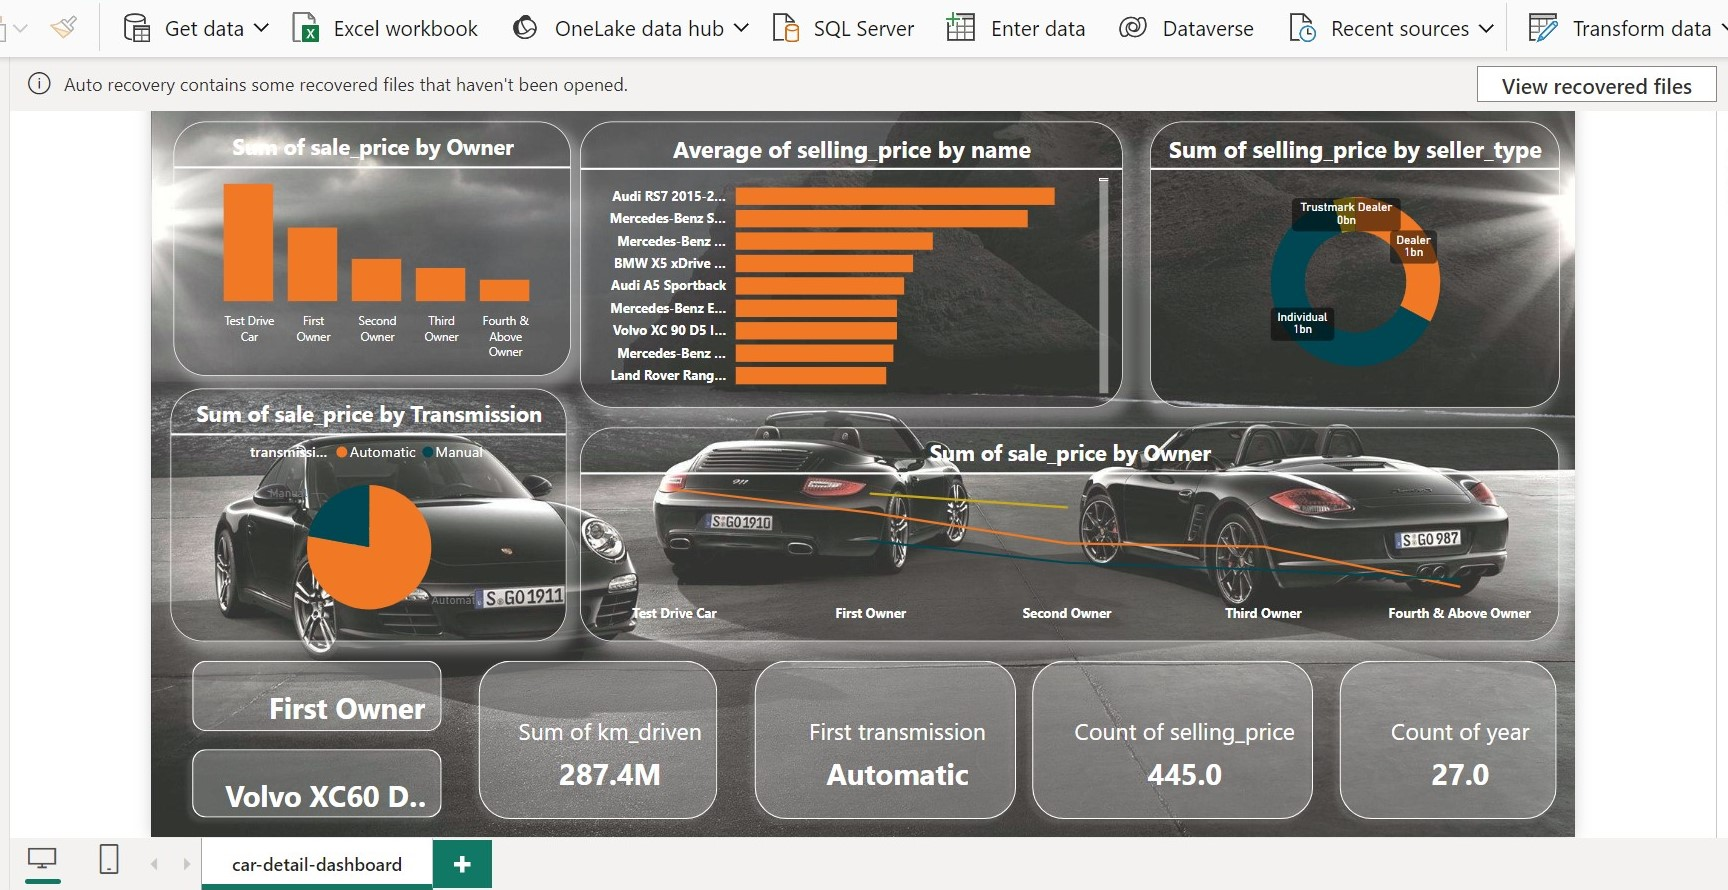

Layout of this report page (visuals, bound fields, positions):
{"tool":"powerbi","page":{"name":"car-detail-dashboard","canvas":[1314,720],"ordinal":0},"visuals":[{"type":"donutChart","fields":{"Y":["Sum(CAR DETAILS FROM CAR DEKHO.selling_price)"],"Series":["CAR DETAILS FROM CAR DEKHO.seller_type"]},"box":[921.8,59.1,377.7,264.3],"z":0},{"type":"barChart","fields":{"Category":["CAR DETAILS FROM CAR DEKHO.name"],"Y":["Avg(CAR DETAILS FROM CAR DEKHO.selling_price)"]},"box":[396.4,59.1,500.5,264.3],"z":1000},{"type":"cardVisual","fields":{"Data":["Min(CAR DETAILS FROM CAR DEKHO.owner)"]},"box":[20.2,539.4,264.3,99.5],"z":2000},{"type":"cardVisual","fields":{"Data":["Max(CAR DETAILS FROM CAR DEKHO.name)"]},"box":[20.2,621.8,264.3,97.9],"z":3000},{"type":"cardVisual","fields":{"Data":["Sum(CAR DETAILS FROM CAR DEKHO.km_driven)"]},"box":[284.5,539.4,254.9,180.3],"z":4000},{"type":"cardVisual","fields":{"Data":["Min(CAR DETAILS FROM CAR DEKHO.transmission)"]},"box":[539.4,539.4,275.1,180.3],"z":5000},{"type":"cardVisual","fields":{"Data":["Count(CAR DETAILS FROM CAR DEKHO.selling_price)"]},"box":[795.9,539.4,293.8,180.3],"z":6000},{"type":"cardVisual","fields":{"Data":["Count(CAR DETAILS FROM CAR DEKHO.year)"]},"box":[1078.8,539.4,234.7,180.3],"z":7000},{"type":"textbox","box":[0,0,1314.6,59.5],"z":8000},{"type":"pieChart","title":"Sum of sale_price by Transmission","fields":{"Y":["Avg(CAR DETAILS FROM CAR DEKHO.selling_price)"],"Series":["CAR DETAILS FROM CAR DEKHO.transmission"]},"box":[18.7,306.2,365.3,233.2],"z":9000},{"type":"columnChart","title":"Sum of sale_price by Owner","fields":{"Y":["Avg(CAR DETAILS FROM CAR DEKHO.selling_price)"],"Category":["CAR DETAILS FROM CAR DEKHO.owner"]},"box":[20.2,59.1,366.8,234.7],"z":10000},{"type":"lineChart","title":"Sum of sale_price by Owner","fields":{"Category":["CAR DETAILS FROM CAR DEKHO.owner"],"Y":["Avg(CAR DETAILS FROM CAR DEKHO.selling_price)"],"Series":["CAR DETAILS FROM CAR DEKHO.seller_type"]},"box":[396.4,342,903.1,197.4],"z":11000}]}

Visuals, with their boxes on the page's 1314x720 design canvas (x1, y1, x2, y2). These are canvas units, not pixel positions in the 1728x890 screenshot, which may show the page scaled, cropped or inside an application window:
donutChart - Sum(CAR DETAILS FROM CAR DEKHO.selling_price) x CAR DETAILS FROM CAR DEKHO.seller_type: box(922, 59, 1300, 323)
barChart - CAR DETAILS FROM CAR DEKHO.name x Avg(CAR DETAILS FROM CAR DEKHO.selling_price): box(396, 59, 897, 323)
cardVisual - Min(CAR DETAILS FROM CAR DEKHO.owner): box(20, 539, 284, 639)
cardVisual - Max(CAR DETAILS FROM CAR DEKHO.name): box(20, 622, 284, 720)
cardVisual - Sum(CAR DETAILS FROM CAR DEKHO.km_driven): box(284, 539, 539, 720)
cardVisual - Min(CAR DETAILS FROM CAR DEKHO.transmission): box(539, 539, 814, 720)
cardVisual - Count(CAR DETAILS FROM CAR DEKHO.selling_price): box(796, 539, 1090, 720)
cardVisual - Count(CAR DETAILS FROM CAR DEKHO.year): box(1079, 539, 1314, 720)
textbox: box(0, 0, 1315, 60)
"Sum of sale_price by Transmission" pieChart: box(19, 306, 384, 539)
"Sum of sale_price by Owner" columnChart: box(20, 59, 387, 294)
"Sum of sale_price by Owner" lineChart: box(396, 342, 1300, 539)
